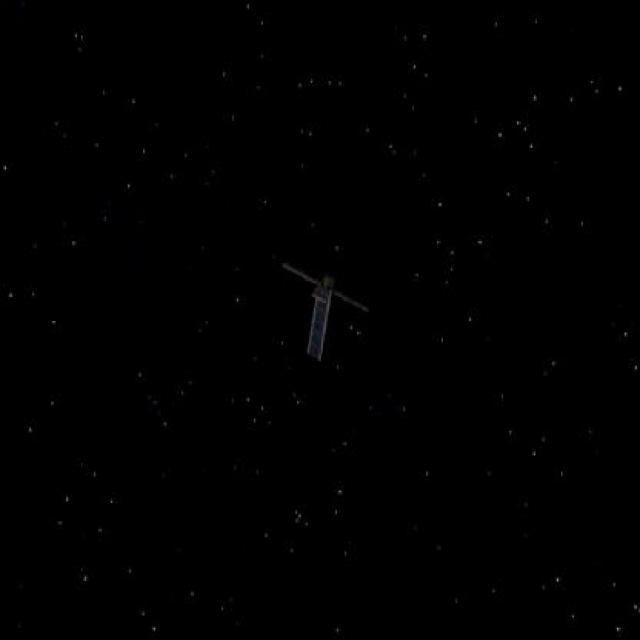medium_debris: (277, 252, 375, 365)
